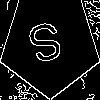S: (25, 19, 69, 74)
